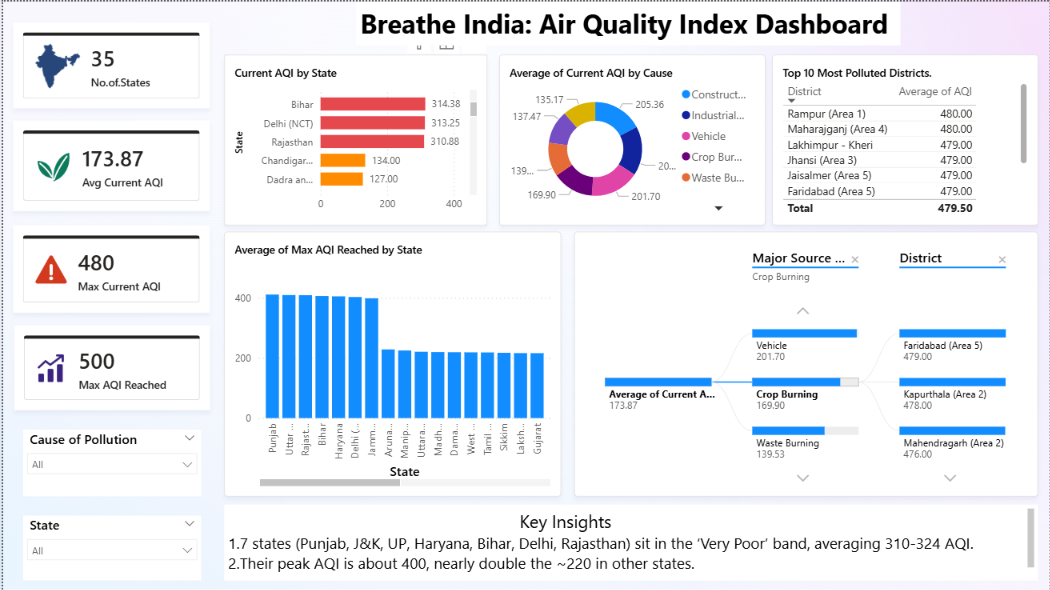

The dashboard page shown, as its layout file describes it:
{"tool":"powerbi","page":{"name":"Page 1","canvas":[1280,720],"ordinal":0},"visuals":[{"type":"cardVisual","fields":{"Data":["Avg(all india dist AQI.Current AQI)"]},"box":[12.2,145.5,240.9,110.1],"z":0},{"type":"cardVisual","fields":{"Data":["Max(all india dist AQI.Current AQI)"]},"box":[12.2,273.9,240.9,106.4],"z":1000},{"type":"cardVisual","fields":{"Data":["Max(all india dist AQI.Most AQI Reached)"]},"box":[13.5,396.2,239.7,103.9],"z":2000},{"type":"clusteredBarChart","fields":{"Category":["all india dist AQI.State"],"Y":["Avg(all india dist AQI.Current AQI)"]},"box":[270.2,64.8,321.6,209.1],"z":3000},{"type":"clusteredColumnChart","fields":{"Category":["all india dist AQI.State"],"Y":["Avg(all india dist AQI.Most AQI Reached)"]},"box":[270.2,281.3,412.1,324.1],"z":4000},{"type":"decompositionTreeVisual","fields":{"ExplainBy":["all india dist AQI.Major Source of Pollution","all india dist AQI.District"],"Analyze":["Avg(all india dist AQI.Current AQI)"]},"box":[698.2,281.3,567.4,324.1],"z":5000},{"type":"donutChart","fields":{"Category":["all india dist AQI.Major Source of Pollution"],"Y":["Avg(all india dist AQI.Current AQI)"]},"box":[606.3,64.6,325.3,208.9],"z":6000},{"type":"slicer","fields":{"Values":["all india dist AQI.State"]},"box":[24.5,628.5,217.7,79.5],"z":7000},{"type":"slicer","fields":{"Values":["all india dist AQI.Major Source of Pollution"]},"box":[24.5,523.4,217.7,81.9],"z":8000},{"type":"cardVisual","fields":{"Data":["Count(all india dist AQI.State)"]},"box":[12.2,25.7,240.9,105.2],"z":9000},{"type":"tableEx","title":"Top 10 Most Polluted Districts.","fields":{"Values":["all india dist AQI.District","Avg(all india dist AQI.Current AQI)"]},"box":[940.4,64.8,325.3,209.1],"z":10000},{"type":"textbox","box":[431.7,0,665.2,53.8],"z":11000},{"type":"textbox","box":[270.2,615.1,995.4,92.9],"z":12000}]}

Visuals, with their boxes in screenshot pixels (x1, y1, x2, y2), scaled from the page's 1280x720 canvas onto the 1050x590 screenshot:
cardVisual - Avg(all india dist AQI.Current AQI): BBox(10, 119, 208, 209)
cardVisual - Max(all india dist AQI.Current AQI): BBox(10, 224, 208, 312)
cardVisual - Max(all india dist AQI.Most AQI Reached): BBox(11, 325, 208, 410)
clusteredBarChart - all india dist AQI.State x Avg(all india dist AQI.Current AQI): BBox(222, 53, 485, 224)
clusteredColumnChart - all india dist AQI.State x Avg(all india dist AQI.Most AQI Reached): BBox(222, 231, 560, 496)
decompositionTreeVisual - all india dist AQI.Major Source of Pollution x all india dist AQI.District: BBox(573, 231, 1038, 496)
donutChart - all india dist AQI.Major Source of Pollution x Avg(all india dist AQI.Current AQI): BBox(497, 53, 764, 224)
slicer - all india dist AQI.State: BBox(20, 515, 199, 580)
slicer - all india dist AQI.Major Source of Pollution: BBox(20, 429, 199, 496)
cardVisual - Count(all india dist AQI.State): BBox(10, 21, 208, 107)
"Top 10 Most Polluted Districts." tableEx: BBox(771, 53, 1038, 224)
textbox: BBox(354, 0, 900, 44)
textbox: BBox(222, 504, 1038, 580)
